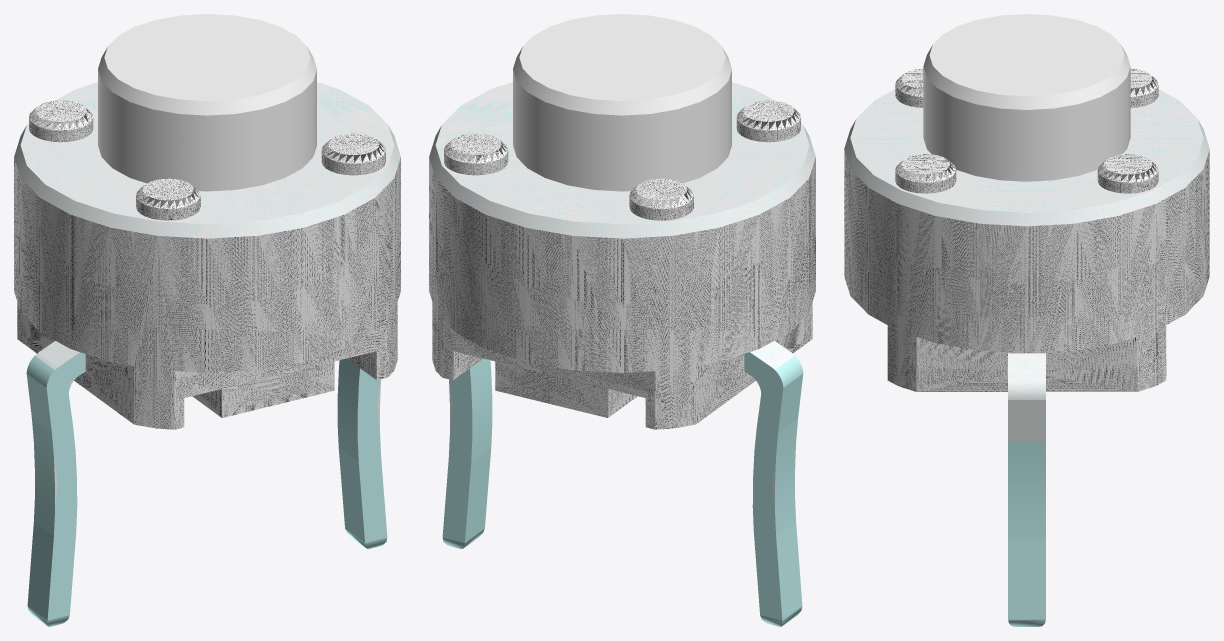
Rendered from Botao.dae.
3 views of the same model, side by side, from view 1: azimuth 30°, elevation 25°; view 2: azimuth 150°, elevation 25°; view 3: azimuth 270°, elevation 25° (orthographic). The views are drawn at different scales.
Parts seen in each view (by area): view 1: Push_2 (×11); view 2: Push_2 (×11); view 3: Push_2 (×11).
Boxes of the visible parts, left/top/right/bottom form: Push_2 (×11): left=14, top=14, right=400, bottom=626; Push_2 (×11): left=429, top=14, right=815, bottom=626; Push_2 (×11): left=844, top=14, right=1209, bottom=626.
Bounding box in the file's own units: 0.2409 × 0.2362 × 0.3543.
